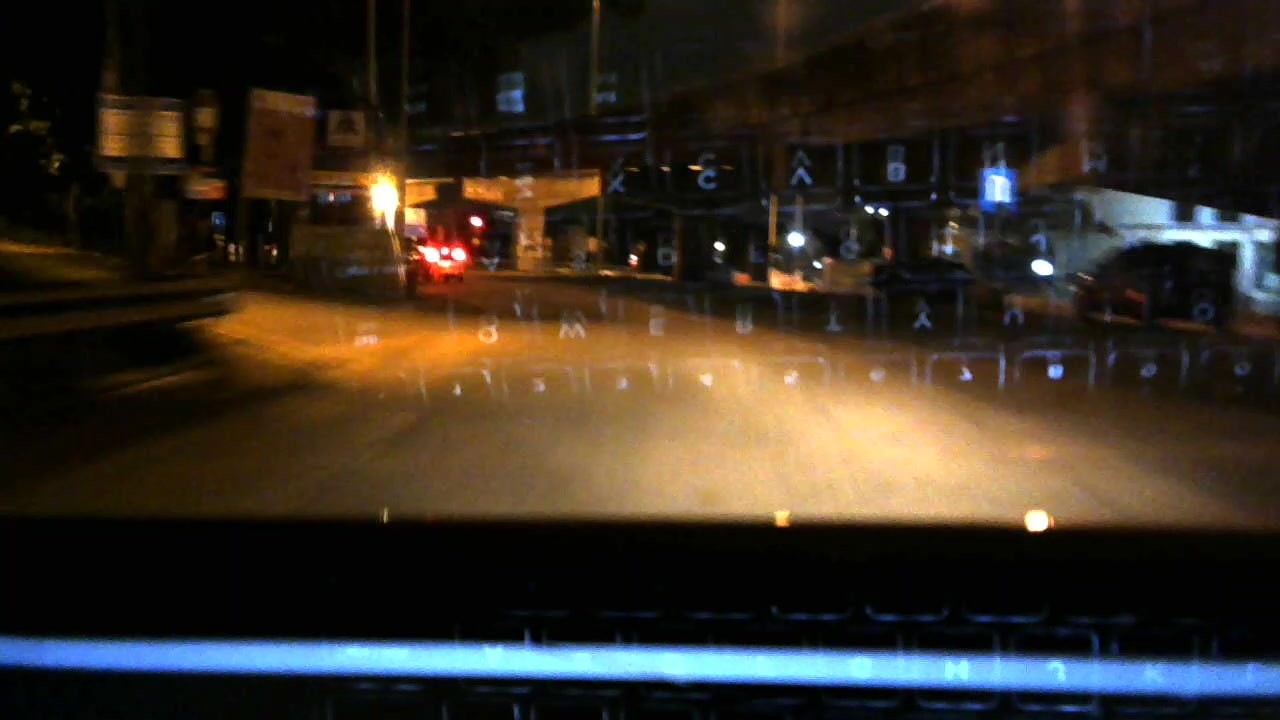Car: (413, 233, 470, 290)
